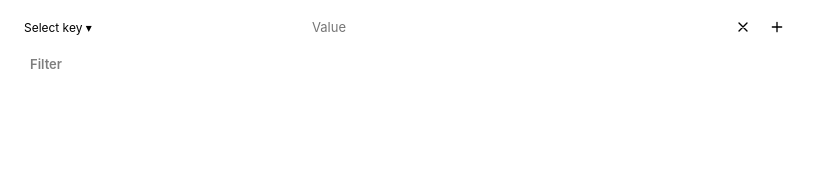
Test: HeaderFilterPanel › offers Delete only from the second header on
The image size is (834, 172).
Click the button named "Add header" at coordinates (777, 27), box [762,12,792,42]
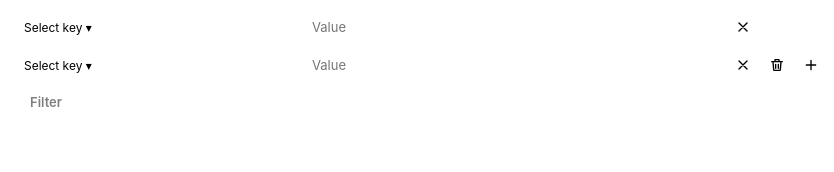
Expected: the button named "Delete header 2" is shown, [762,50,792,80]
